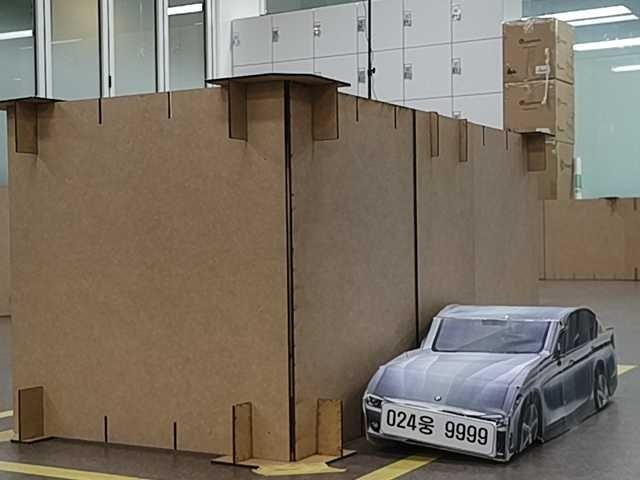car: (356, 298, 619, 462)
id: (377, 396, 500, 460)
